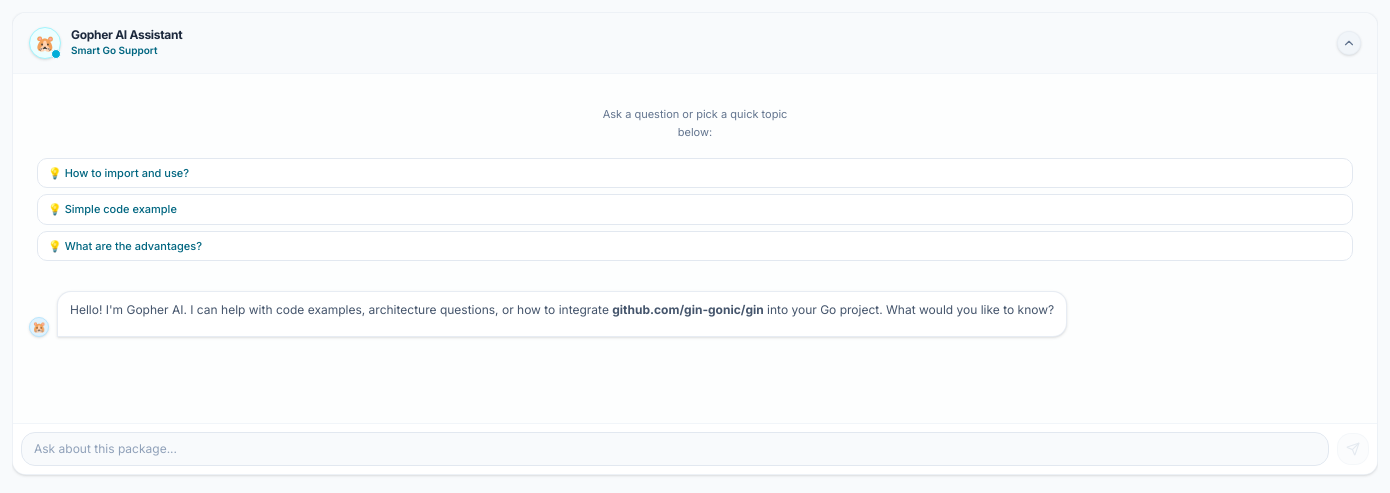
Test: GopherChat › disables send until there is input, and clears via the X button
Check: the button named "send message" is disabled, box [1337,433,1369,465]
Step 1. Type "hello" into the field labelled "Ask about this package..." → coordinates (675, 449), box [21,432,1329,466]
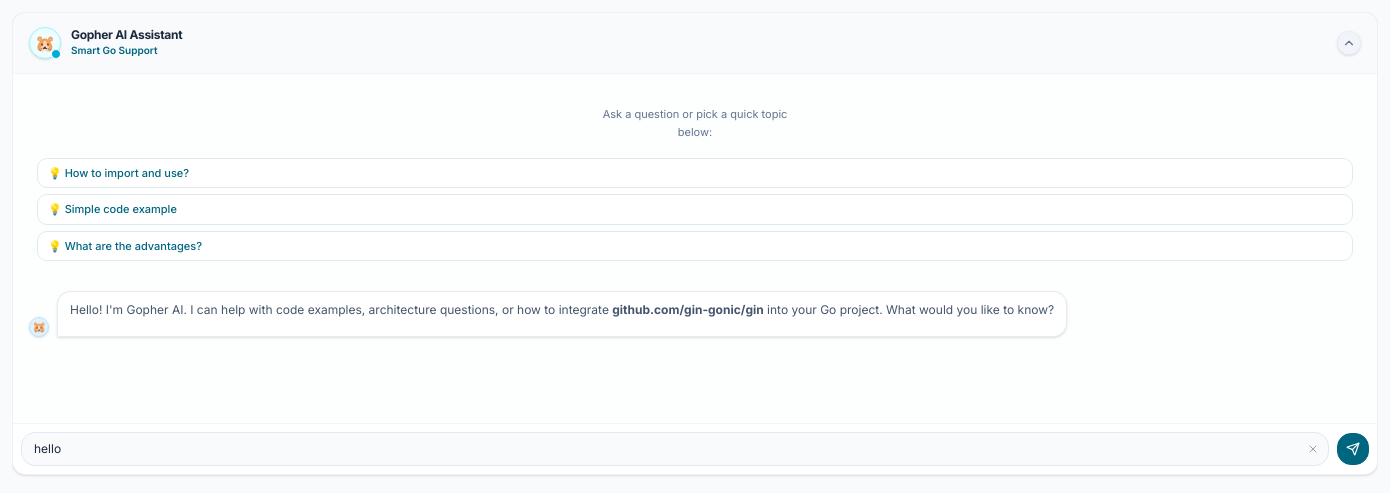
Check: the button named "send message" is enabled, box [1337,433,1369,465]
Step 2. Click the button titled "Clear" → coordinates (1313, 449), box [1305,441,1321,457]
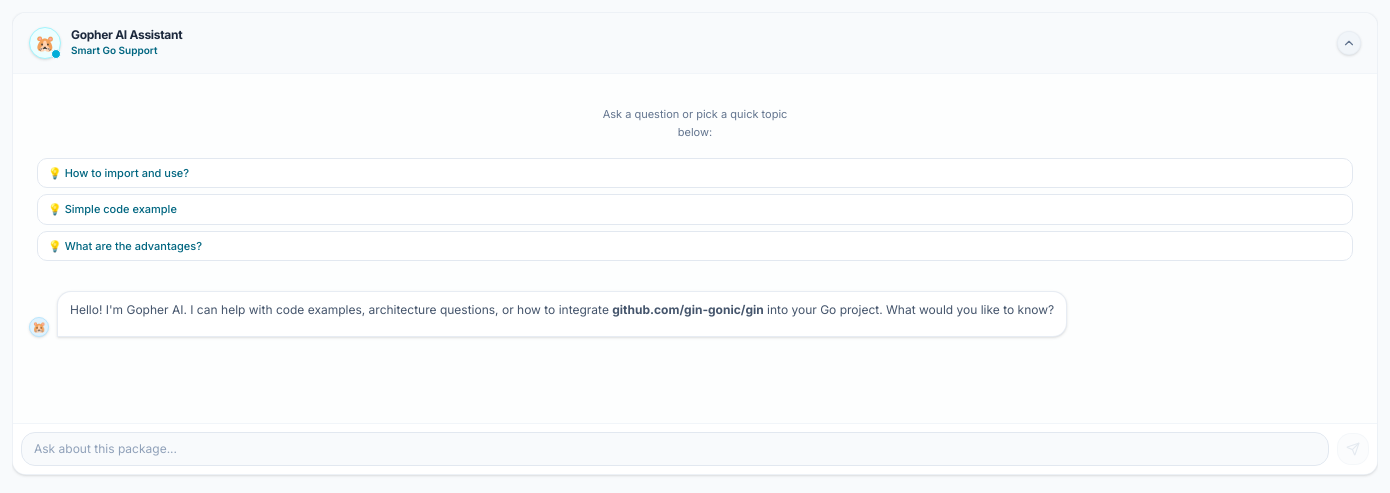
Check: the field labelled "Ask about this package..." is empty, box [21,432,1329,466]
Check: the button named "send message" is disabled, box [1337,433,1369,465]
